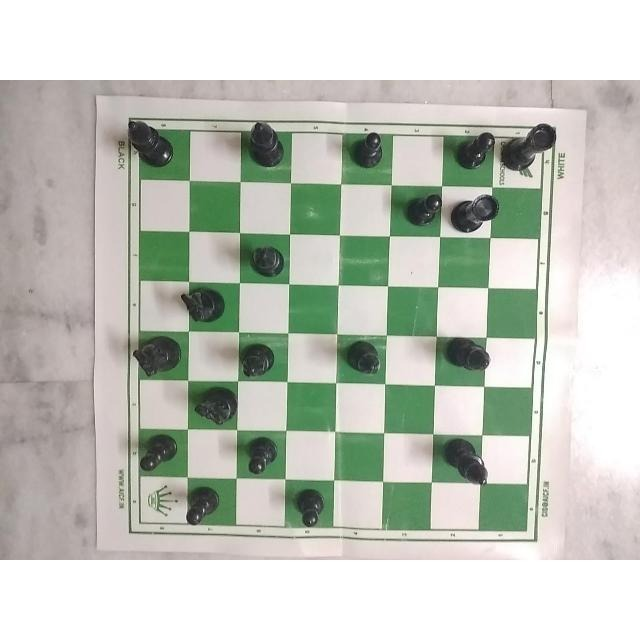black-bishop: (124, 111, 176, 167), (243, 119, 289, 181), (438, 435, 489, 487), (337, 338, 389, 386), (242, 236, 290, 284), (238, 333, 280, 380), (444, 334, 492, 373)
black-knight: (129, 329, 183, 378), (181, 282, 233, 327), (190, 384, 239, 428)
black-pawn: (132, 429, 186, 487), (235, 428, 284, 480), (181, 483, 229, 533), (399, 187, 447, 233), (459, 127, 495, 177), (349, 132, 389, 173), (295, 490, 332, 534)
black-rook: (501, 119, 556, 178), (446, 188, 502, 238)
